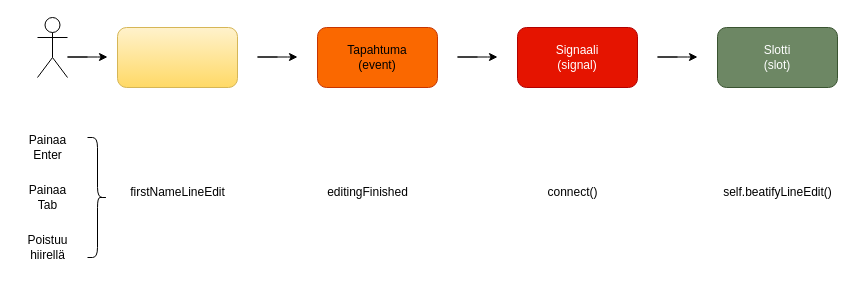
Image size: 859x285. Some labels were removed from this diagram. The centre of each missing label's shape, as x and y in pixels:
"Elementti (element/widget)" belongs at pixel 177 57.
"Käyttäjän toimenpide" belongs at pixel 52 47.
